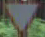Give way: (3, 0, 43, 34)
